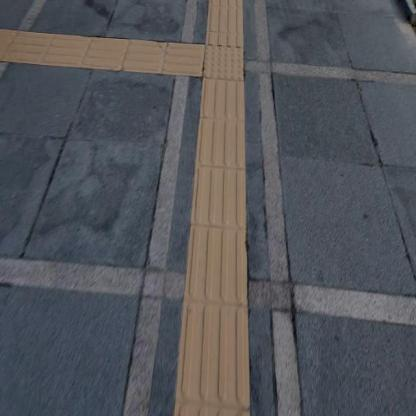podotacti: (172, 82, 252, 416), (0, 26, 203, 77), (181, 22, 266, 114), (207, 0, 244, 45)
